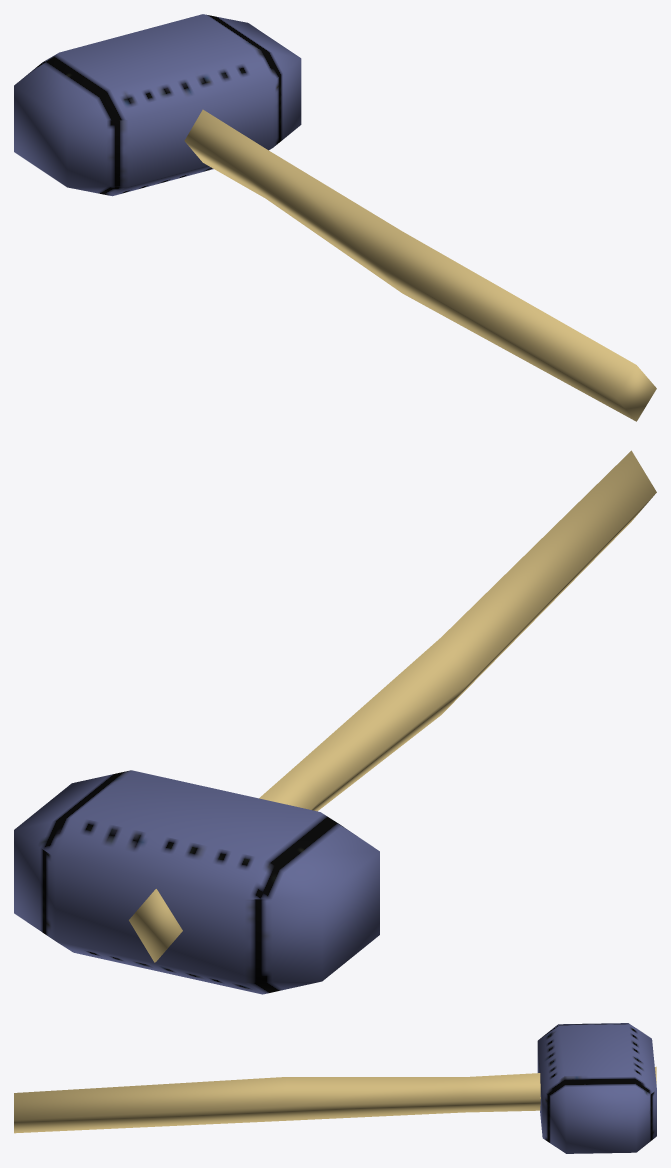
File: Molot_lod0.fbx
3 views of the same model, one above another, from view 1: azimuth 30°, elevation 25°; view 2: azimuth 150°, elevation 25°; view 3: azimuth 270°, elevation 25° (orthographic). The views are drawn at different scales.
Visible parts, largest first — view 1: Цилиндр; view 2: Цилиндр; view 3: Цилиндр.
Part boxes in pixels (x1,y1,x2,y2): Цилиндр: (14,14,656,421); Цилиндр: (14,450,656,994); Цилиндр: (14,1023,656,1153).
Bounding box in the file's own units: 15.58 × 50.39 × 6.62.
